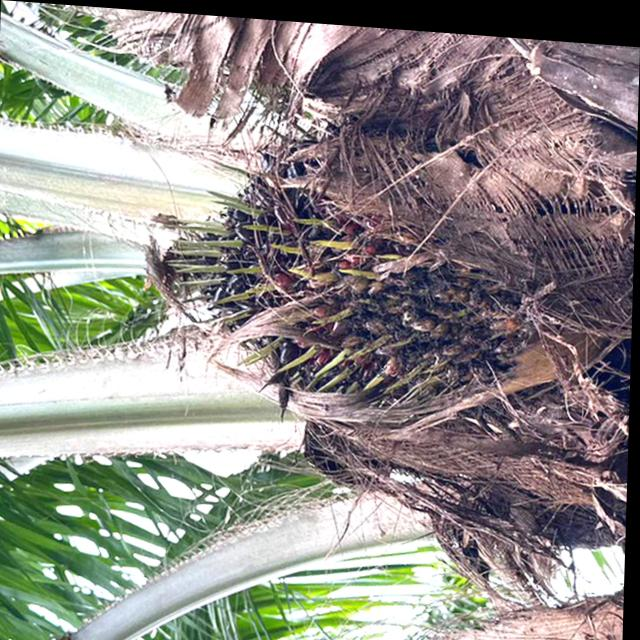unripe: (168, 142, 588, 430)
